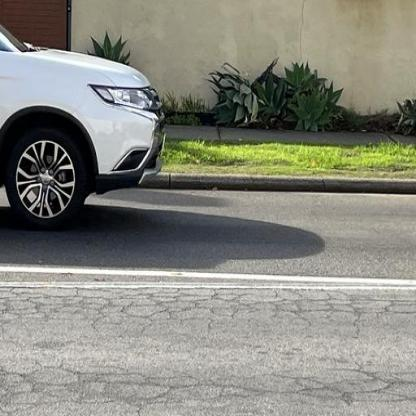Tire: (4, 124, 88, 230)
